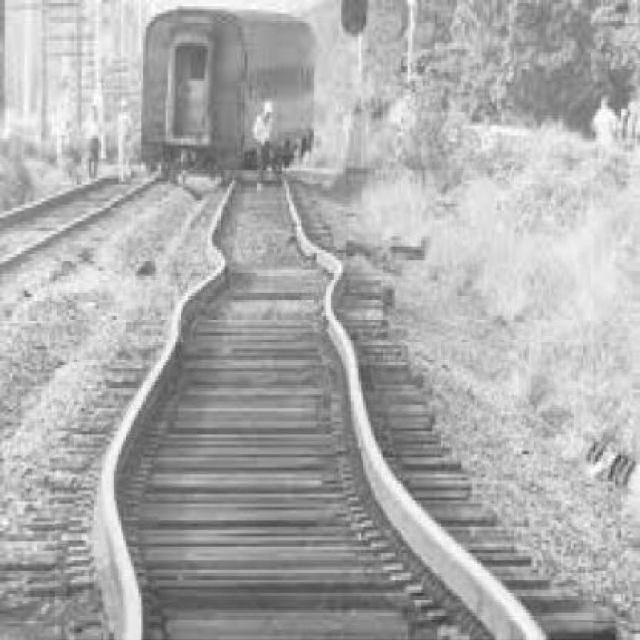rail: (57, 172, 594, 640), (1, 163, 169, 276)
